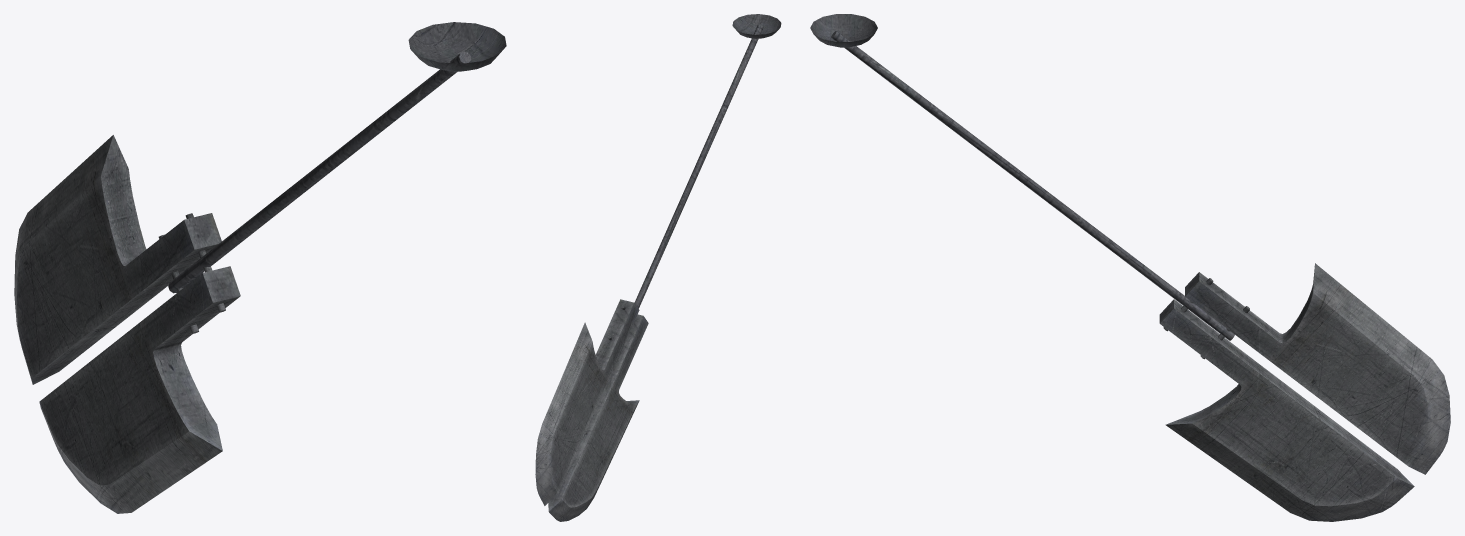
File: tasak3.FBX
The picture shows the model from 3 angles, left to right: view 1: azimuth 30°, elevation 25°; view 2: azimuth 150°, elevation 25°; view 3: azimuth 270°, elevation 25°; orthographic projection. The views are drawn at different scales.
Visible parts, largest first — view 1: tasak3, sferaTasak3; view 2: tasak3, sferaTasak3; view 3: tasak3, sferaTasak3.
Part boxes in pixels (box(x1,y1,x2,y2)): tasak3: box(14, 51, 470, 513); sferaTasak3: box(408, 22, 506, 71); tasak3: box(535, 24, 763, 521); sferaTasak3: box(732, 14, 781, 38); tasak3: box(831, 31, 1450, 521); sferaTasak3: box(810, 14, 877, 47).
Bounding box in the file's own units: 22.81 × 188 × 221.
1 material, 1 textured.
